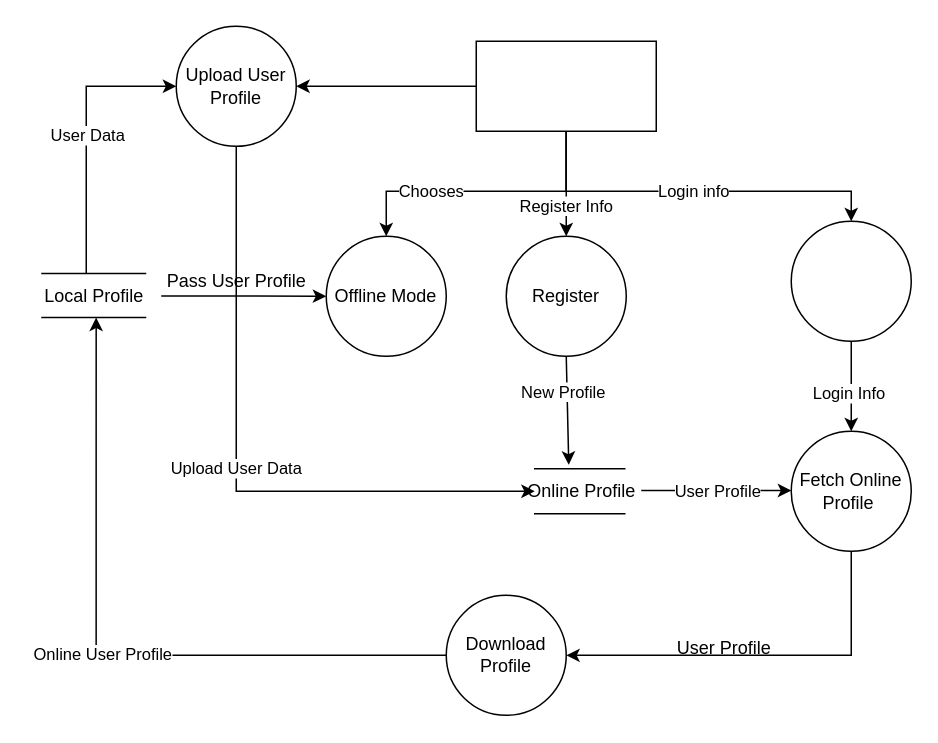
Some shapes in this 938 by 743 pixel diagram are drawn without their labels. The box of each missing label's shape, as (x1, y1, x2, y2) in pixels:
Login: (790, 220, 911, 341)
Player: (475, 40, 656, 131)
